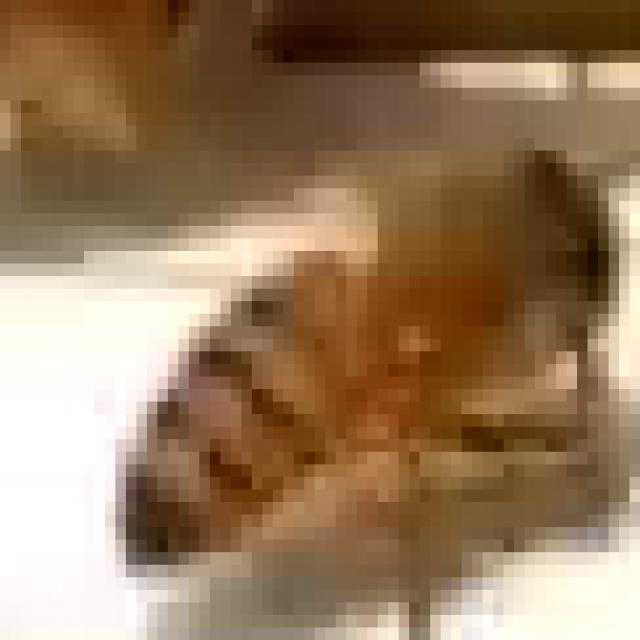honeybee: (104, 120, 595, 590)
